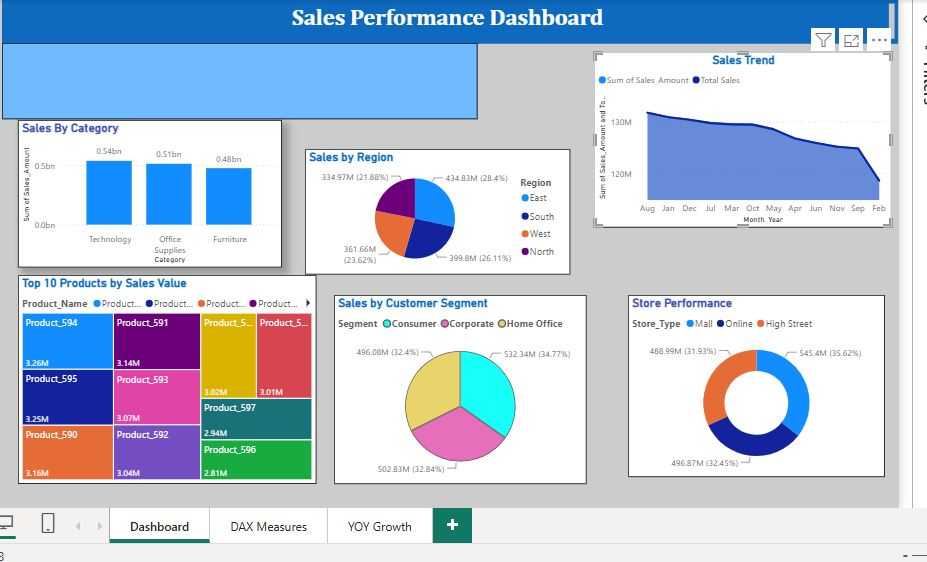

The page's visual inventory and layout, read from the dashboard file:
{"tool":"powerbi","page":{"name":"Dashboard","canvas":[1280,720],"ordinal":0},"visuals":[{"type":"textbox","box":[10.5,0,1269.8,61.6],"z":0},{"type":"cardVisual","fields":{"Data":["fact_sales_Dev.Total Profit","fact_sales_Dev.Total Sales","fact_sales_Dev.Total_Orders","fact_sales_Dev.Profit_Percent"]},"box":[10.5,61.6,674.4,108.1],"z":1000},{"type":"lineChart","title":"Sales Trend ","fields":{"Category":["fact_sales_Dev.Month_Year"],"Y":["Sum(fact_sales_Dev.Sales_Amount)","fact_sales_Dev.Total Sales"]},"box":[848.8,73.3,422.1,248.8],"z":2000},{"type":"columnChart","title":"Sales By Category","fields":{"Category":["dim_products_Dev.Category"],"Y":["Sum(fact_sales_Dev.Sales_Amount)"]},"box":[32.6,169.8,374.4,209.3],"z":3000},{"type":"pieChart","title":"Sales by Region","fields":{"Category":["dim_stores_Dev.Region"],"Y":["fact_sales_Dev.Total Sales"]},"box":[439.5,211.6,375.6,177.9],"z":4000},{"type":"treemap","title":"Top 10 Products by Sales Value","fields":{"Group":["dim_products_Dev.Product_Name"],"Values":["fact_sales_Dev.Total Sales"]},"box":[32.9,389.7,422.6,296.4],"z":5000},{"type":"pieChart","title":"Sales by Customer Segment","fields":{"Category":["dim_customers_ Dev.Segment"],"Y":["fact_sales_Dev.Total Sales"]},"box":[480.3,418.5,358.1,267.6],"z":6000},{"type":"donutChart","title":"Store Performance","fields":{"Category":["dim_stores_Dev.Store_Type"],"Y":["Sum(fact_sales_Dev.Sales_Amount)"]},"box":[896.5,418.6,364,258.1],"z":7000}]}

Visuals, with their boxes in screenshot pixels (x1, y1, x2, y2):
textbox: {"x1": 0, "y1": 0, "x2": 907, "y2": 42}
cardVisual - fact_sales_Dev.Total Profit x fact_sales_Dev.Total Sales: {"x1": 0, "y1": 42, "x2": 482, "y2": 119}
"Sales Trend " lineChart: {"x1": 599, "y1": 50, "x2": 900, "y2": 228}
"Sales By Category" columnChart: {"x1": 16, "y1": 119, "x2": 283, "y2": 268}
"Sales by Region" pieChart: {"x1": 307, "y1": 149, "x2": 575, "y2": 276}
"Top 10 Products by Sales Value" treemap: {"x1": 16, "y1": 276, "x2": 318, "y2": 488}
"Sales by Customer Segment" pieChart: {"x1": 336, "y1": 296, "x2": 592, "y2": 488}
"Store Performance" donutChart: {"x1": 633, "y1": 297, "x2": 893, "y2": 481}
